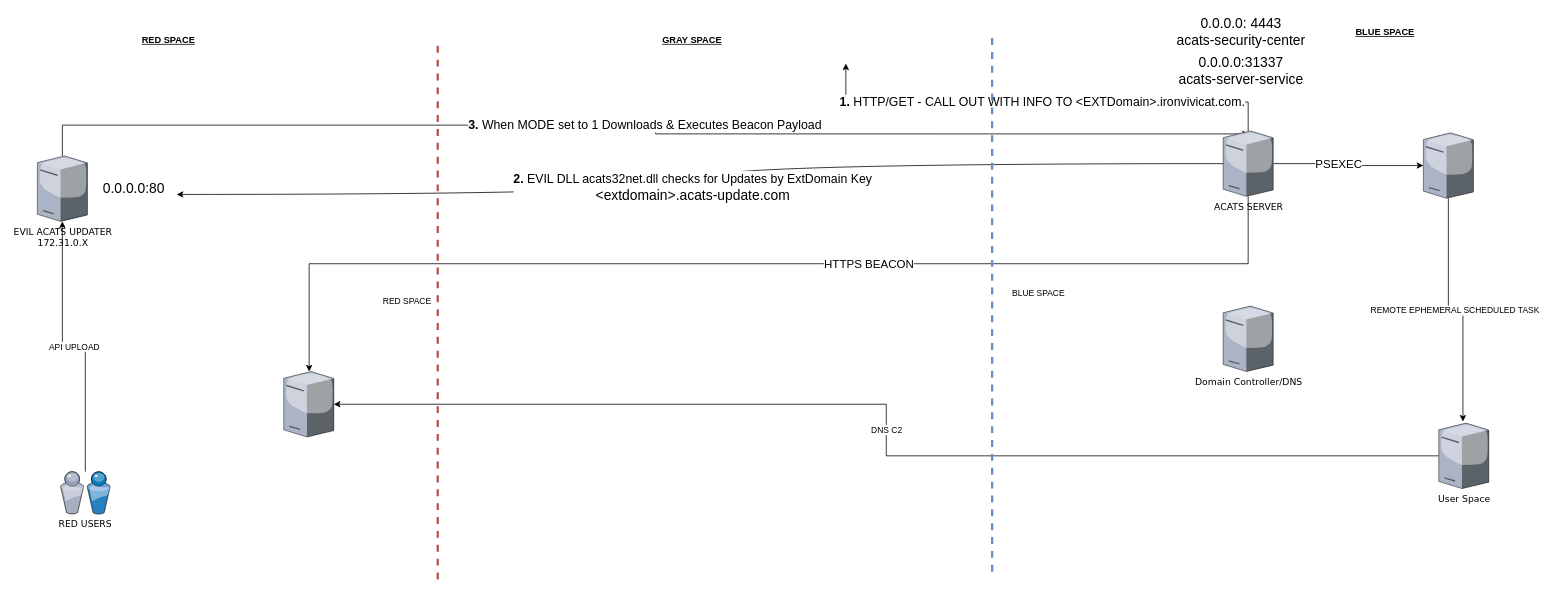
Image size: 1552x594. Some labels were removed from this diagram. Here are the shapes that lost their labels. From the top down, the centre of each, then its label:
At (1448,165): "File Server".
At (308,404): "Cobalt Strike Server".
